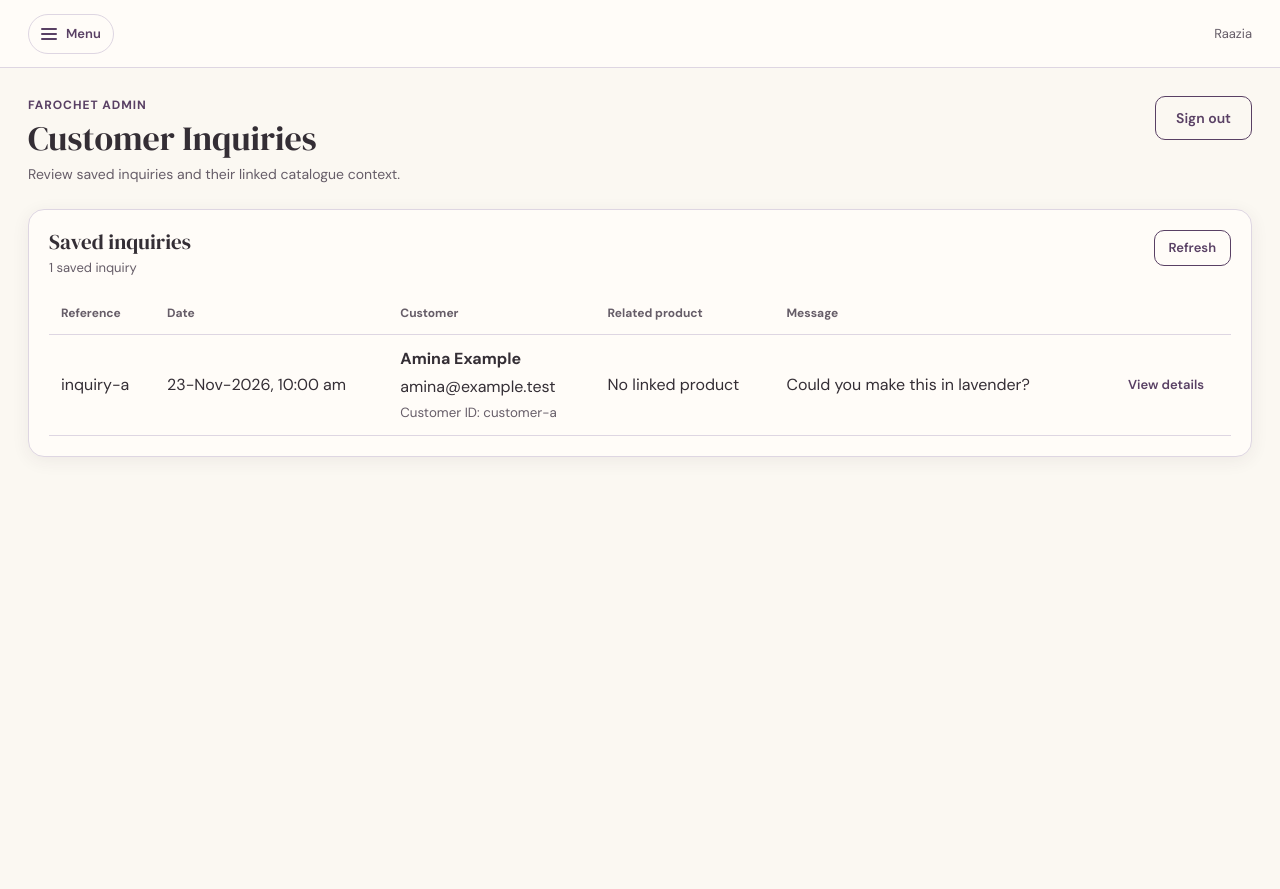
Test: InquiryManagementPage › shows customer name, email and secondary ID in the list and details
The image size is (1280, 889).
Expected: the text "Amina Example" is shown, [400,348,521,369]
Expected: the text "amina@example.test" is shown, [400,376,556,397]
Click the button "View details": click(1166, 385) [1113,367,1219,403]
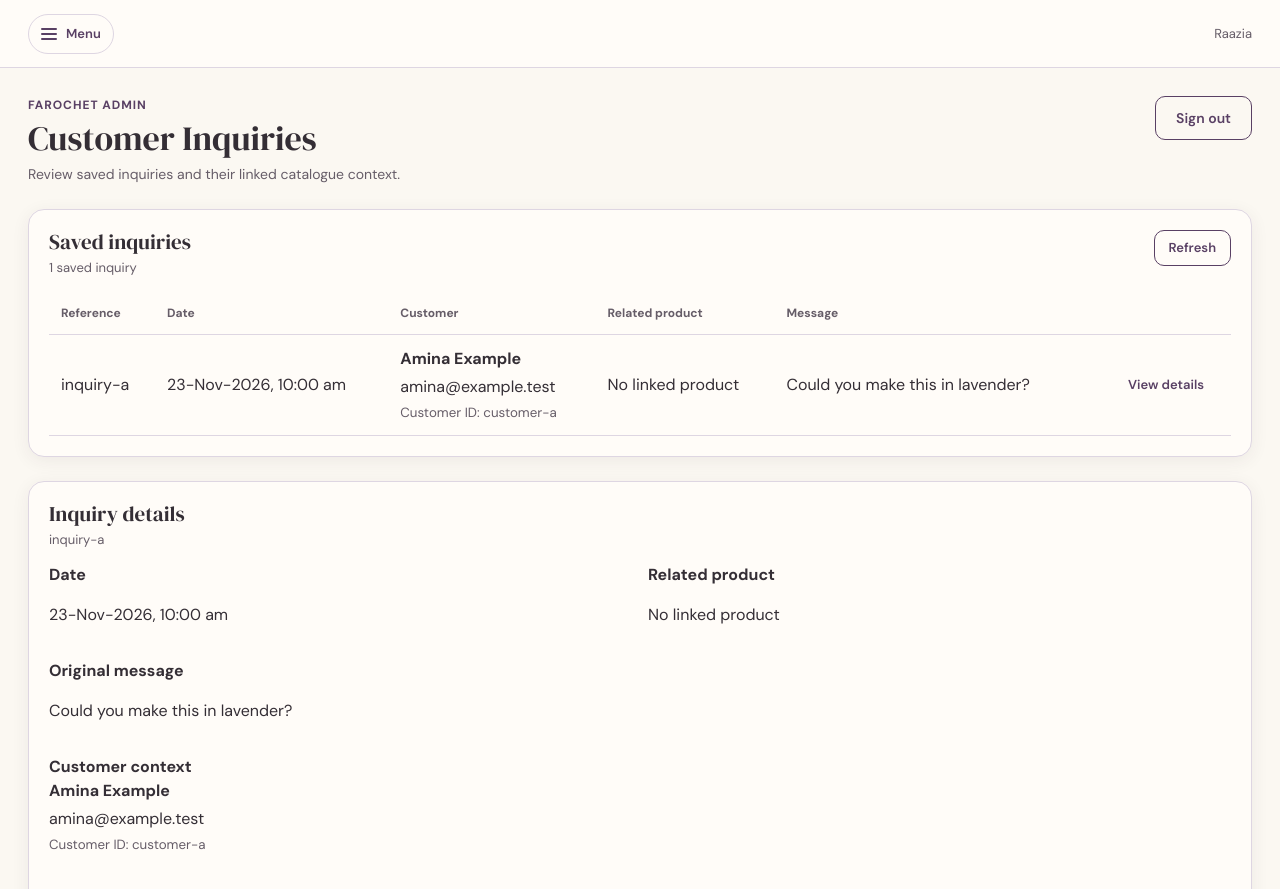
Expected: the text "Amina Example" is shown 2 times, [400,348,521,369]; [49,780,170,801]
Expected: the text "amina@example.test" is shown 2 times, [400,376,556,397]; [49,808,204,829]
Expected: the text "Customer ID: customer-a" is shown 2 times, [400,403,584,423]; [49,836,205,853]
